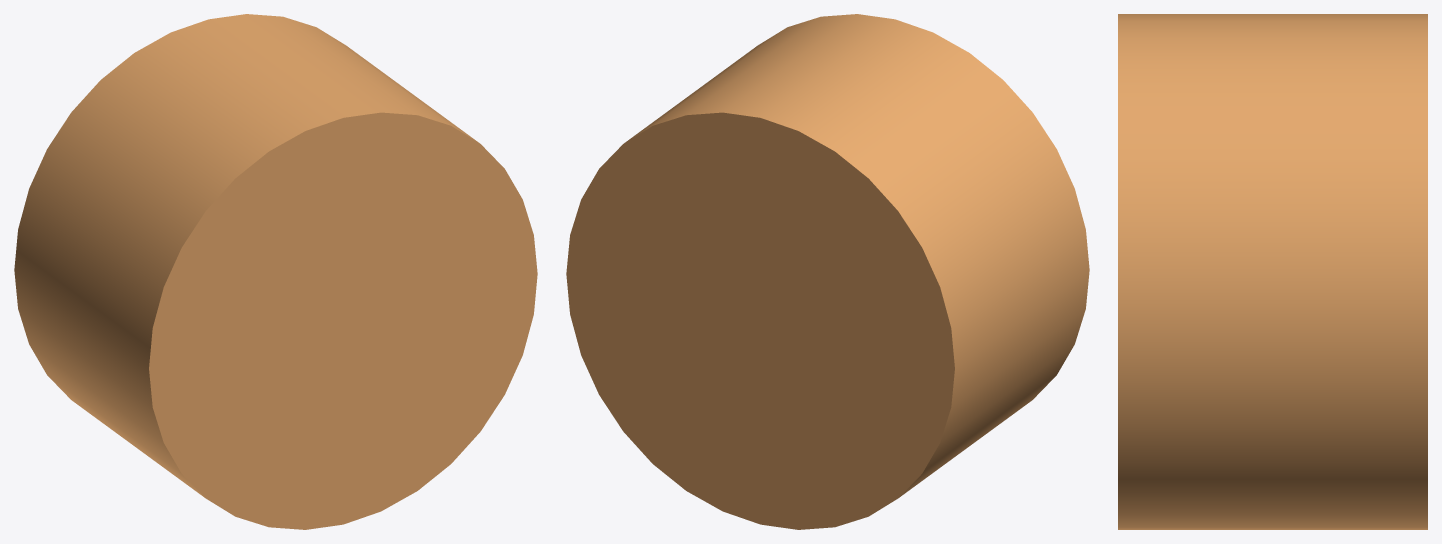
The model's file is WHEEL.dae.
The picture shows the model from 3 angles, left to right: view 1: azimuth 30°, elevation 25°; view 2: azimuth 150°, elevation 25°; view 3: azimuth 270°, elevation 25°; orthographic projection. The views are drawn at different scales.
Parts seen in each view (by area): view 1: WHEEL_L1.001; view 2: WHEEL_L1.001; view 3: WHEEL_L1.001.
Part boxes in pixels (<box>): WHEEL_L1.001: <box>14,14,537,529</box>; WHEEL_L1.001: <box>566,14,1089,529</box>; WHEEL_L1.001: <box>1118,14,1427,529</box>.
Bounding box in the file's own units: 0.15 × 0.09 × 0.15.
